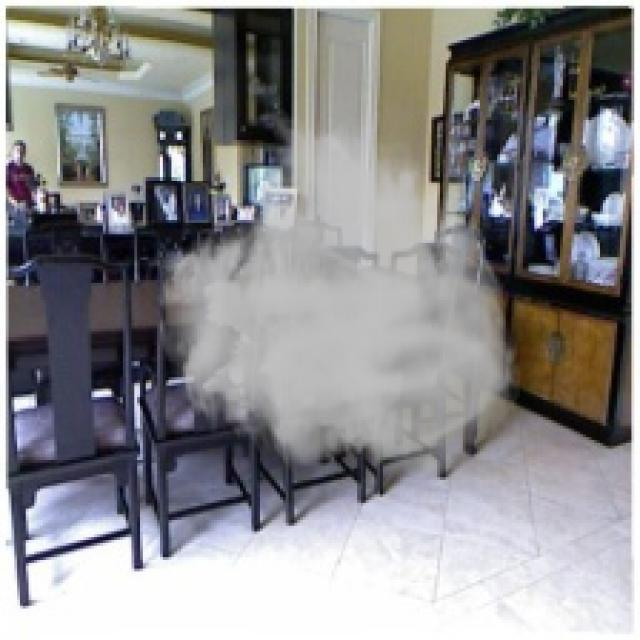Smoke: (154, 106, 523, 486)
